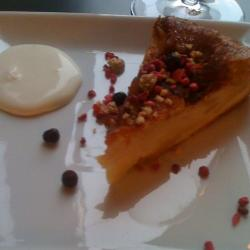apple_pie: (94, 16, 250, 191)
